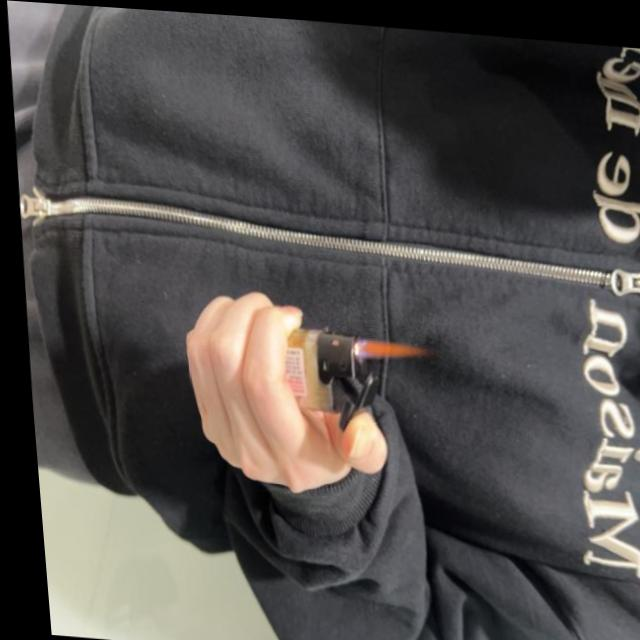Fire: (345, 331, 424, 362)
